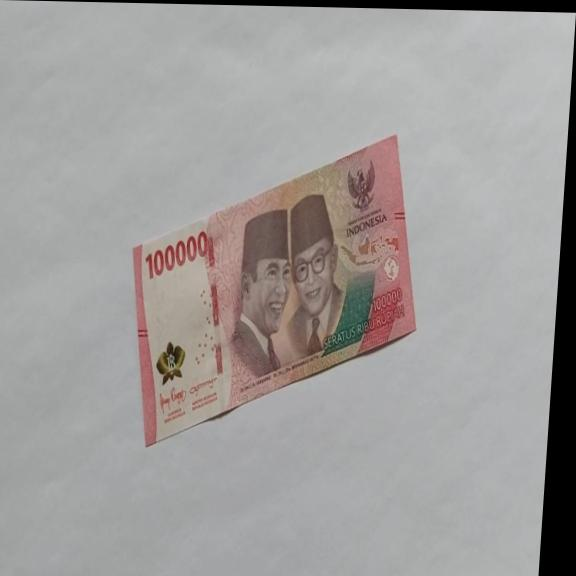Kertas: (119, 127, 430, 452), (143, 228, 210, 281)
